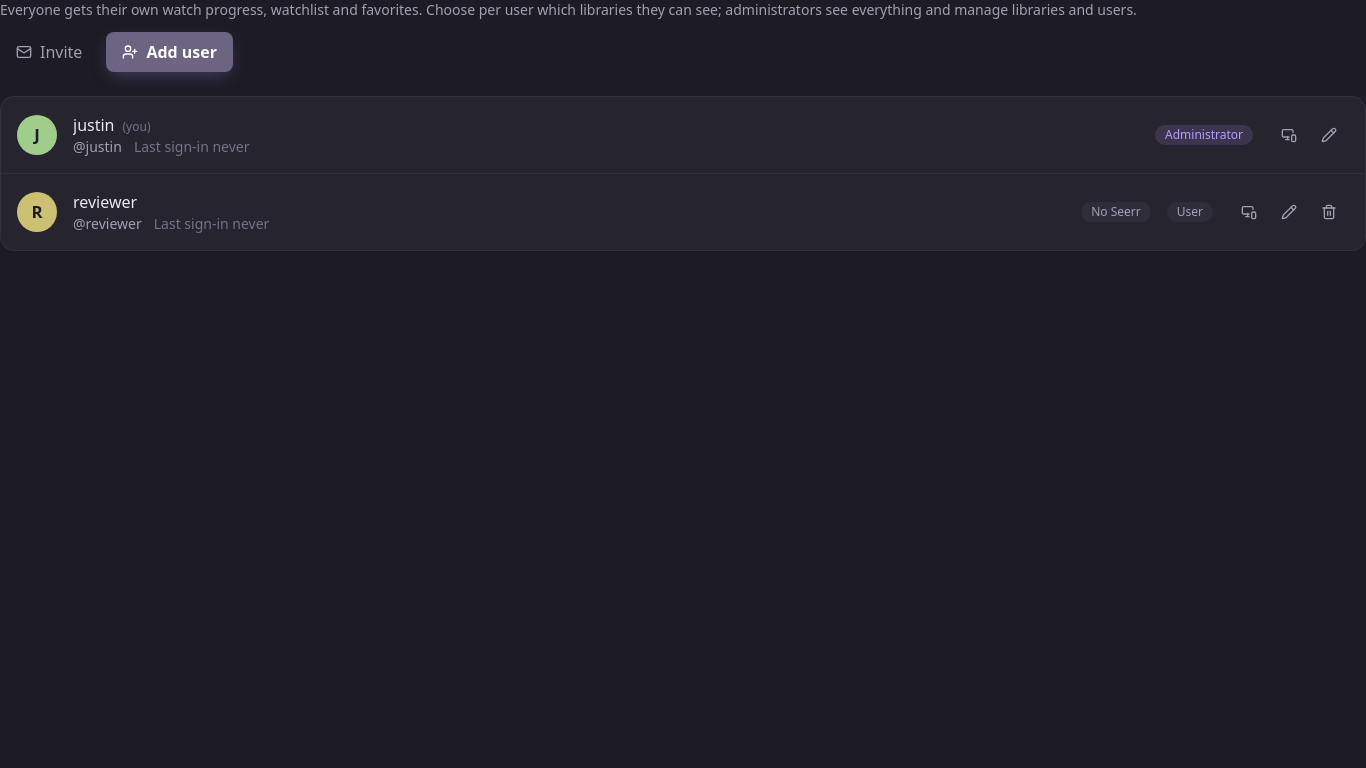
Seerr per user › shows who has no Seerr, and the switch starts off for them
expect the text "No Seerr" is shown: met, box [1081,202,1151,222]
Click the button named "Edit user" in the row of "No Seerr" at (1289, 212), box [1269,192,1309,232]
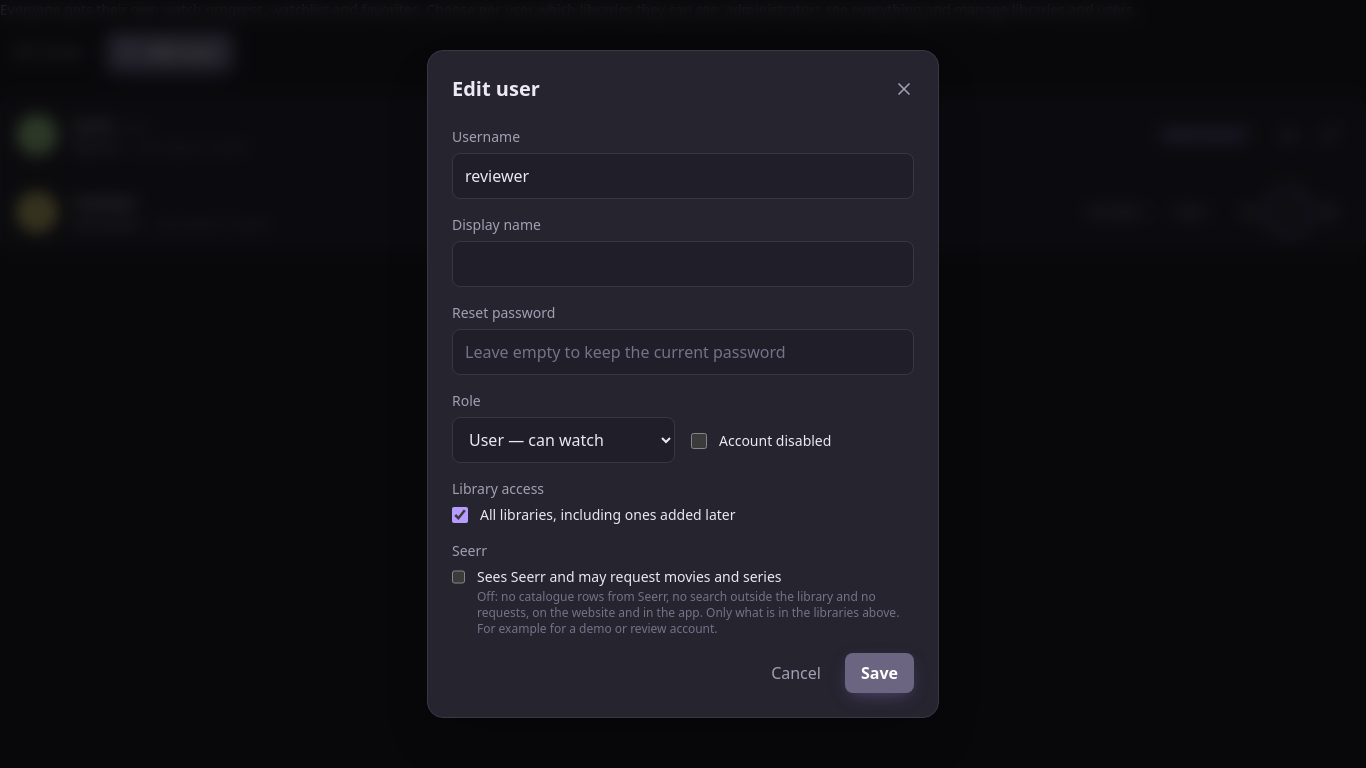
expect the checkbox labelled "Sees Seerr and may request" is not checked: met, box [452,569,465,585]
